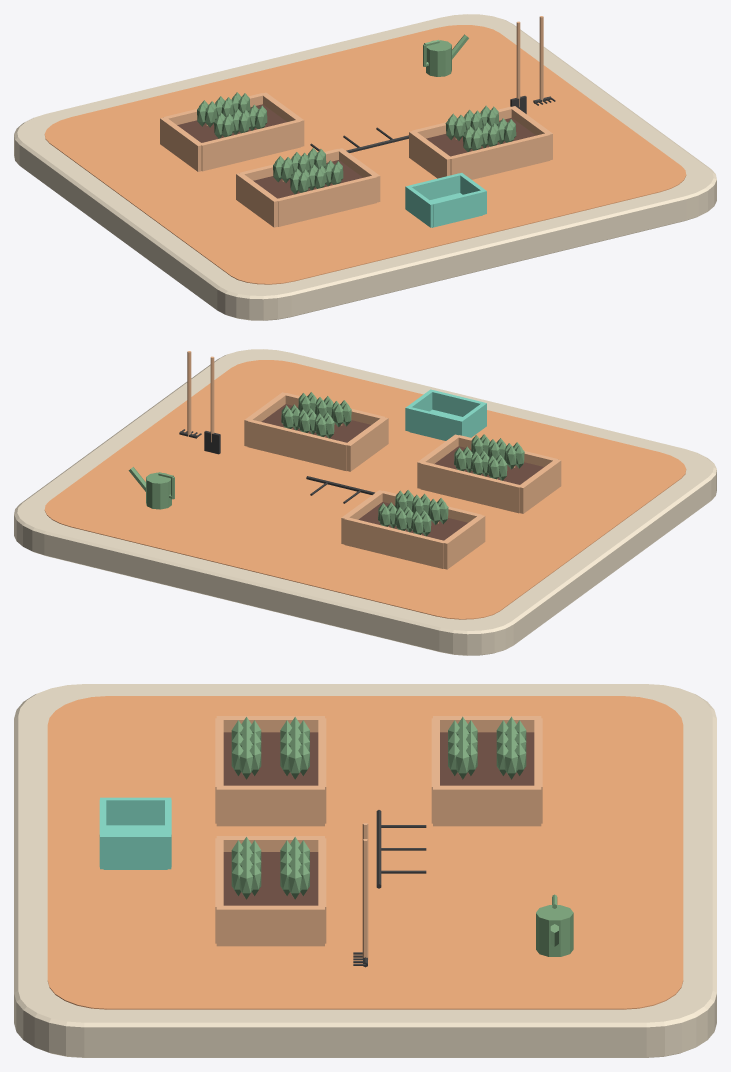
The model's file is room.fbx.
3 renders of one model, top to bottom at view 1: azimuth 30°, elevation 25°; view 2: azimuth 150°, elevation 25°; view 3: azimuth 270°, elevation 25°, orthographic. The views are drawn at different scales.
Visible parts, largest first — view 1: COM-02 Floor Surface, COM-01 Rounded Base Direct, Border.010, Border.002, Border.006, Bin end, Border, Border.008, Border.004, Can, Bin end.001, Soil (+6 smaller); view 2: COM-02 Floor Surface, COM-01 Rounded Base Direct, Border.007, Border.011, Border.003, Border, Border.008, Border.004, Bin end.001, Bin end, Can, Soil.001 (+7 smaller); view 3: COM-02 Floor Surface, COM-01 Rounded Base Direct, Border.001, Border.009, Border.005, Soil.001, Soil, Soil.002, Bin side.001, Bin side, Can, Border (+10 smaller).
Part boxes in pixels (<box>): COM-02 Floor Surface: <box>44,25,686,284</box>; COM-01 Rounded Base Direct: <box>14,14,716,320</box>; Border.010: <box>199,120,300,171</box>; Border.002: <box>278,175,376,226</box>; Border.006: <box>448,133,549,179</box>; Bin end: <box>431,190,484,226</box>; Border: <box>236,172,279,227</box>; Border.008: <box>160,117,203,171</box>; Border.004: <box>409,131,450,178</box>; Can: <box>426,40,451,76</box>; Bin end.001: <box>409,173,460,200</box>; Soil: <box>253,160,362,198</box>; COM-02 Floor Surface: <box>44,360,686,619</box>; COM-01 Rounded Base Direct: <box>14,349,716,655</box>; Border.007: <box>247,419,348,471</box>; Border.011: <box>344,517,445,568</box>; Border.003: <box>420,461,519,513</box>; Border: <box>518,459,561,513</box>; Border.008: <box>442,514,485,569</box>; Border.004: <box>346,417,388,471</box>; Bin end.001: <box>408,407,460,440</box>; Bin end: <box>431,390,483,416</box>; Can: <box>146,472,171,509</box>; Soil.001: <box>261,404,370,442</box>; COM-02 Floor Surface: <box>47,696,683,1009</box>; COM-01 Rounded Base Direct: <box>14,684,716,1057</box>; Border.001: <box>216,785,324,826</box>; Border.009: <box>433,785,541,826</box>; Border.005: <box>216,905,324,946</box>; Soil.001: <box>223,852,318,905</box>; Soil: <box>223,732,318,785</box>; Soil.002: <box>440,732,534,785</box>; Bin side.001: <box>100,834,171,869</box>; Bin side: <box>100,797,171,825</box>; Can: <box>536,905,573,956</box>; Border: <box>216,716,324,732</box>.
Size of the model in its own units: 600 by 140 by 520.
